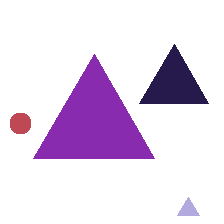circle: (10, 113, 30, 133)
triangle: (33, 54, 154, 158), (139, 44, 208, 103), (177, 197, 199, 215)
